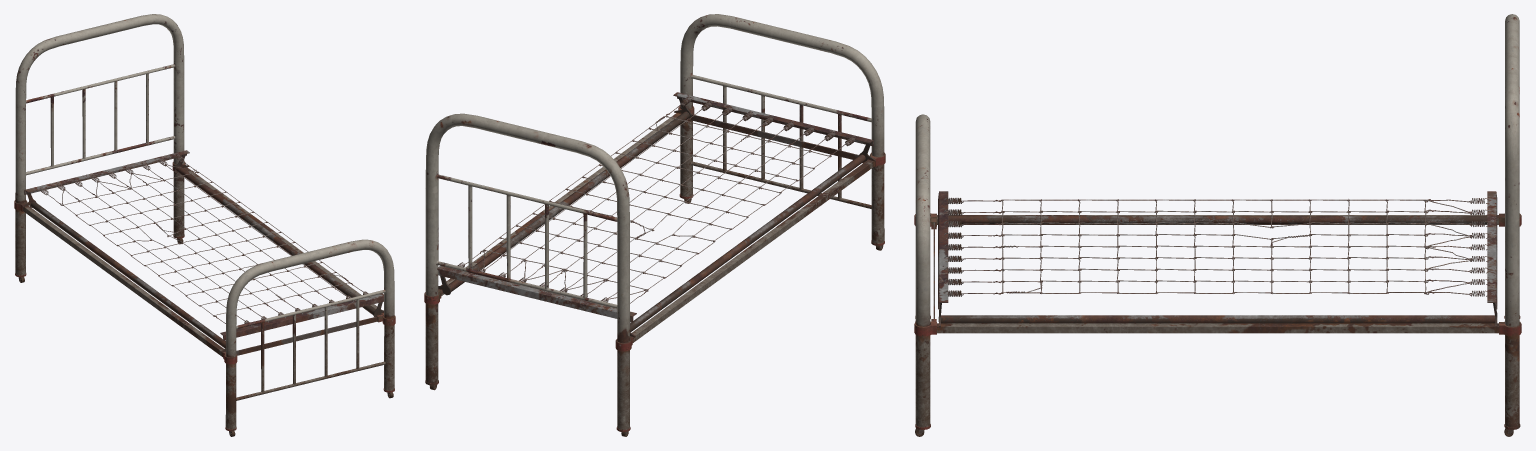
Rendered from old_bed_frame.glb.
The picture shows the model from 3 angles, left to right: view 1: azimuth 30°, elevation 25°; view 2: azimuth 150°, elevation 25°; view 3: azimuth 270°, elevation 25°; orthographic projection. The views are drawn at different scales.
Visible parts, largest first — view 1: old_bed_frame; view 2: old_bed_frame; view 3: old_bed_frame.
Boxes of the visible parts, <box> form: old_bed_frame: <box>14,14,395,436</box>; old_bed_frame: <box>424,14,885,436</box>; old_bed_frame: <box>914,14,1521,436</box>.
Bounding box in the file's own units: 0.9047 × 1.2 × 2.
1 material, 1 textured.
